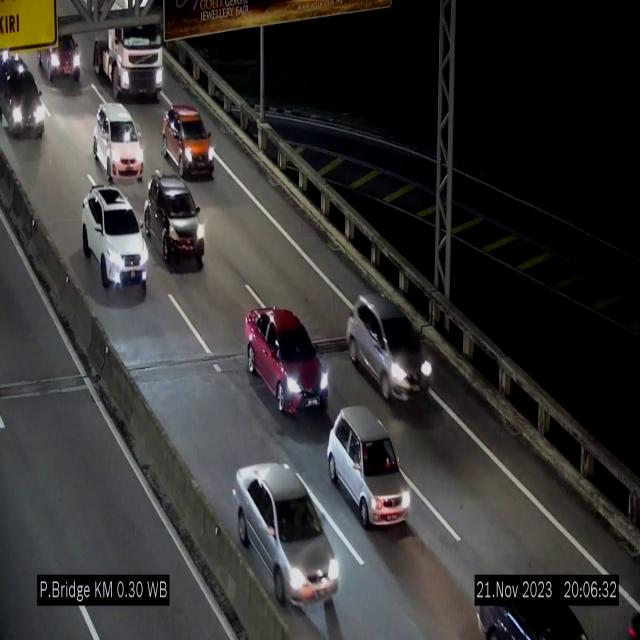Car: (232, 463, 338, 619), (348, 292, 434, 412), (327, 407, 411, 528), (244, 307, 330, 415), (143, 168, 215, 282), (82, 185, 148, 292), (162, 103, 215, 179), (94, 103, 144, 181)
Truck: (94, 24, 164, 100)
